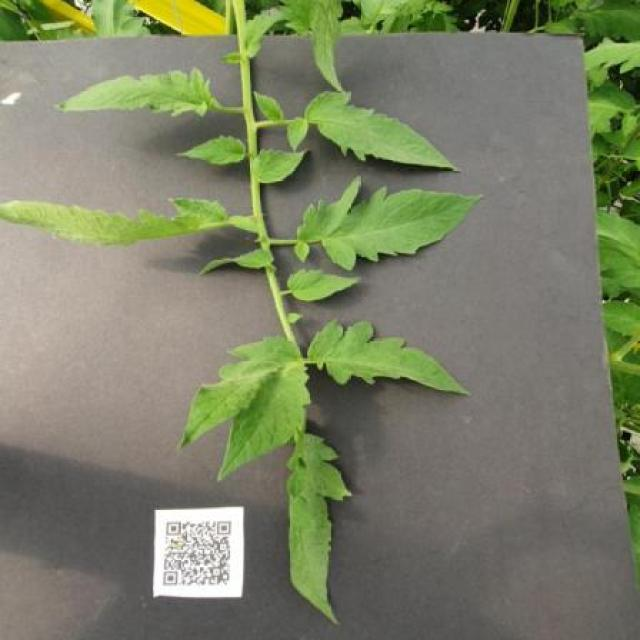Healthy: (294, 175, 483, 271), (284, 92, 462, 172), (284, 426, 353, 627), (304, 318, 472, 399), (216, 363, 311, 481), (58, 64, 213, 124), (287, 267, 362, 302), (177, 133, 249, 166), (249, 147, 312, 184)
